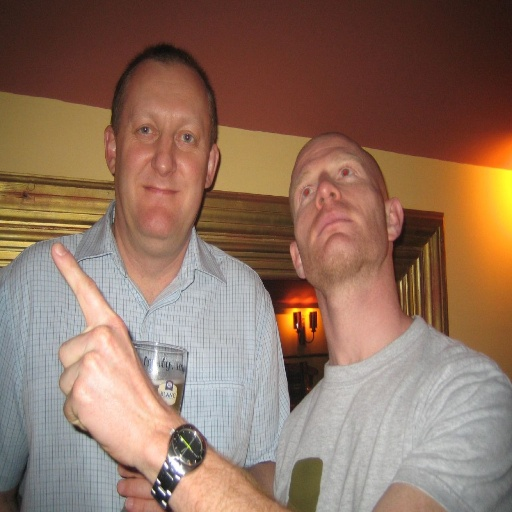hand: (51, 242, 163, 473), (116, 462, 169, 510)
